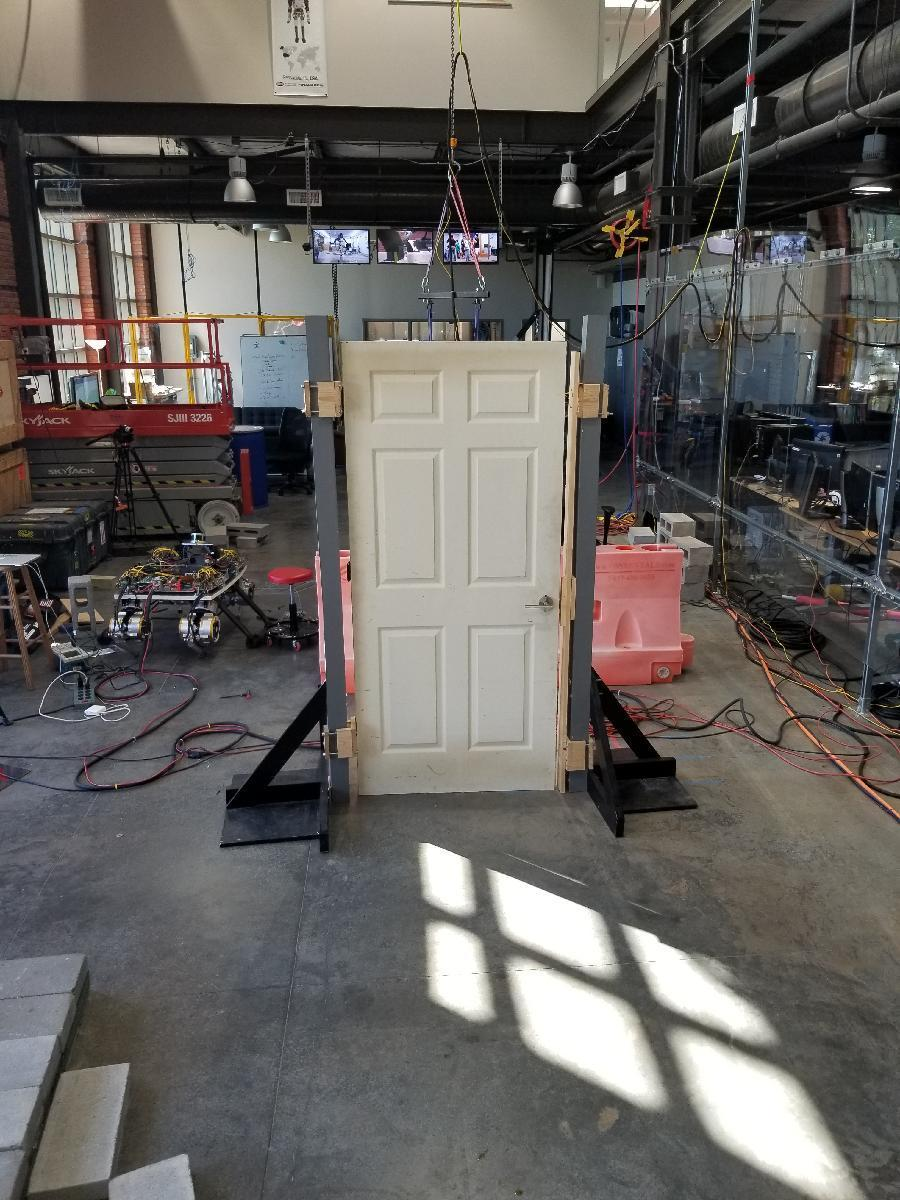door: (344, 336, 562, 802)
handle: (520, 596, 556, 612)
